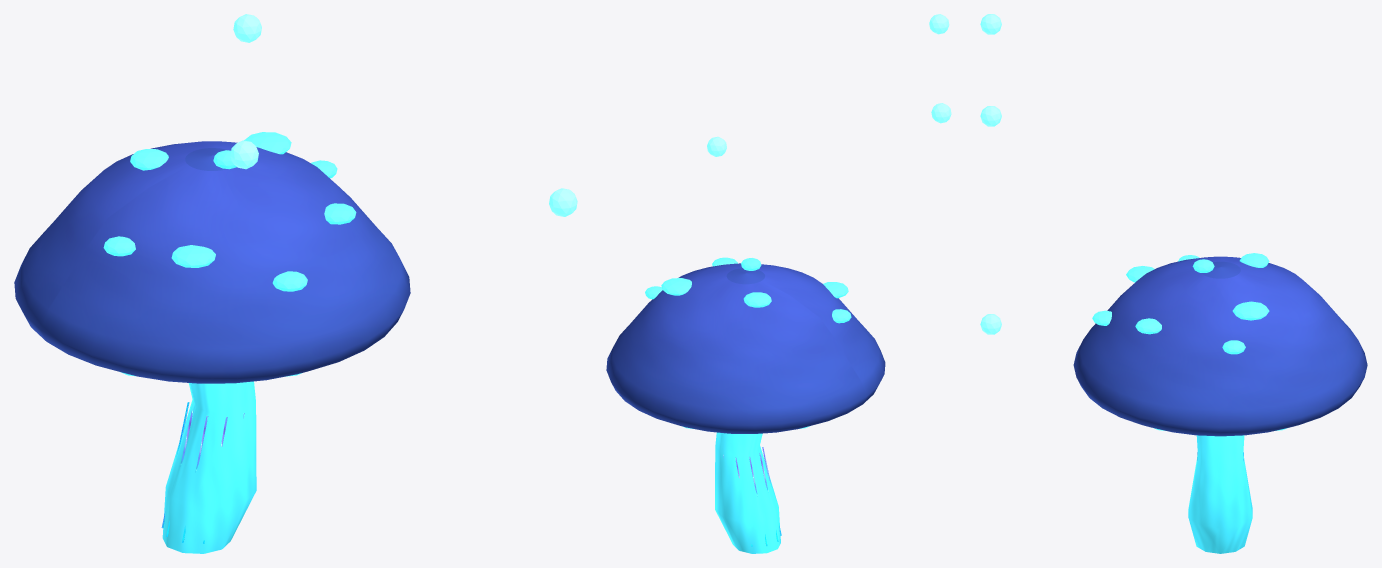
Rendered from forest_mushroom_small.glb.
3 renders of one model, left to right at view 1: azimuth 30°, elevation 25°; view 2: azimuth 150°, elevation 25°; view 3: azimuth 270°, elevation 25°, orthographic. The views are drawn at different scales.
Visible parts, largest first — view 1: Broad faceted mushroom cap.002, Curving luminous mushroom stem.002, Bioluminescent cap spot.016, Bioluminescent cap spot.020; view 2: Broad faceted mushroom cap.002, Curving luminous mushroom stem.002, Bioluminescent cap spot.020; view 3: Broad faceted mushroom cap.002, Curving luminous mushroom stem.002, Bioluminescent cap spot.020.
Boxes of the visible parts, x1,y1,x2,y2 form: Broad faceted mushroom cap.002: (14, 141, 410, 383); Curving luminous mushroom stem.002: (162, 381, 256, 553); Bioluminescent cap spot.016: (171, 245, 215, 267); Bioluminescent cap spot.020: (244, 132, 291, 154); Broad faceted mushroom cap.002: (606, 263, 885, 433); Curving luminous mushroom stem.002: (715, 432, 780, 553); Bioluminescent cap spot.020: (661, 278, 691, 295); Broad faceted mushroom cap.002: (1073, 256, 1367, 436); Curving luminous mushroom stem.002: (1188, 435, 1252, 553); Bioluminescent cap spot.020: (1232, 301, 1269, 320).
Size of the model in its own units: 0.5383 by 0.898 by 0.6416.
Materials: 5 (3 with a texture image).
